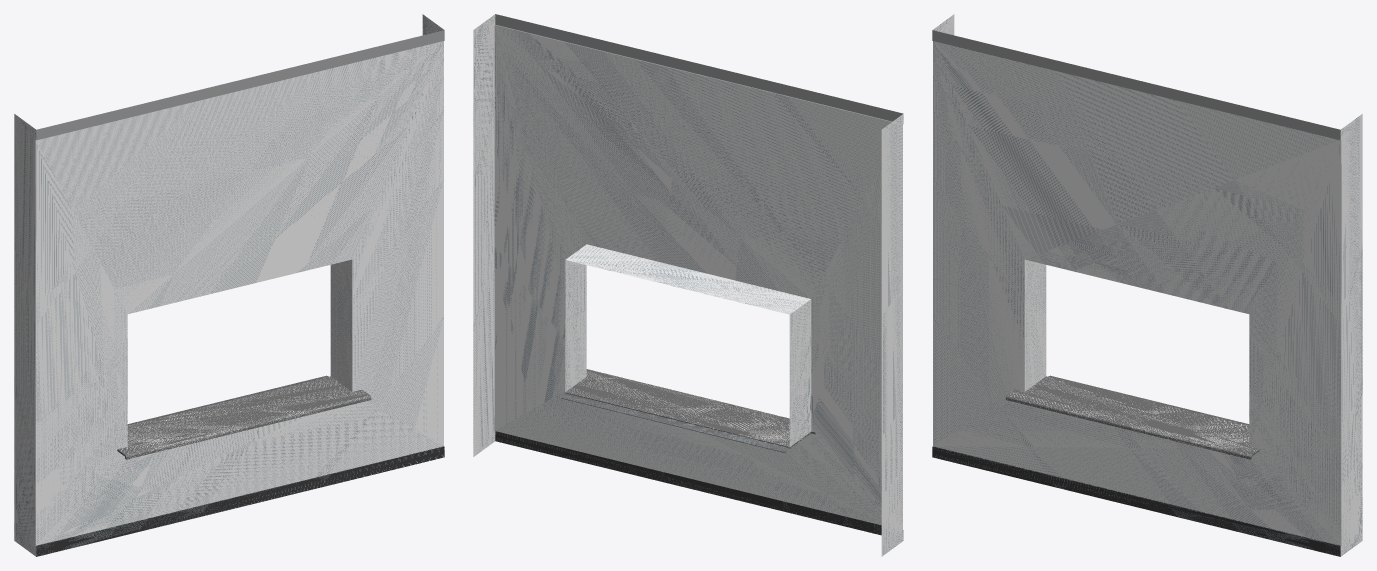
The model's file is WindowBlock_os_plinth_[400x400]_220x124x[080].dae.
The picture shows the model from 3 angles, left to right: view 1: azimuth 30°, elevation 25°; view 2: azimuth 150°, elevation 25°; view 3: azimuth 330°, elevation 25°; orthographic projection.
Visible parts, largest first — view 1: group_2 (×4), group_1; view 2: group_2 (×4), group_1 (×2); view 3: group_2 (×4), group_1.
Boxes of the visible parts, <box> form: group_2 (×4): <box>14,14,444,556</box>; group_1: <box>117,376,371,459</box>; group_2 (×4): <box>473,14,903,556</box>; group_1 (×2): <box>561,369,815,452</box>; group_2 (×4): <box>932,14,1362,556</box>; group_1: <box>1005,376,1258,459</box>.
Size of the model in its own units: 157 by 23.03 by 157.
